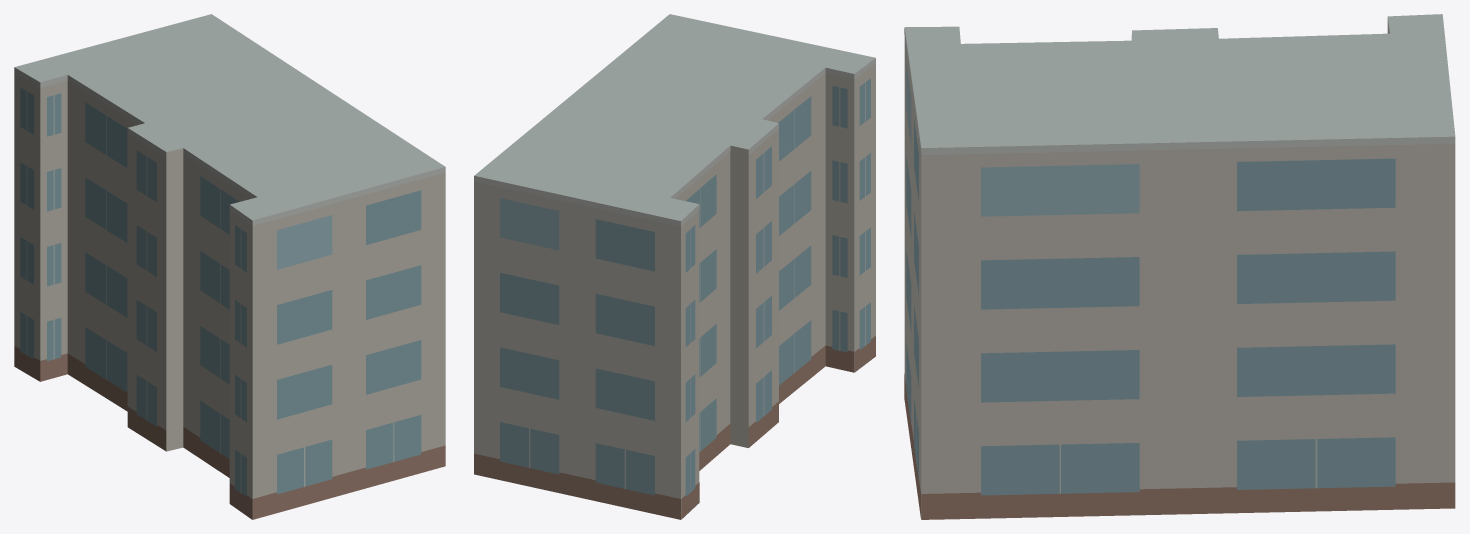
Rendered from survey-upis-32744399.glb.
3 views of the same model, side by side, from view 1: azimuth 30°, elevation 25°; view 2: azimuth 150°, elevation 25°; view 3: azimuth 270°, elevation 25° (orthographic). The views are drawn at different scales.
Parts seen in each view (by area): view 1: survey-upis-32744399.tmp; view 2: survey-upis-32744399.tmp; view 3: survey-upis-32744399.tmp.
Boxes of the visible parts, x1,y1,x2,y2 form: survey-upis-32744399.tmp: (14, 14, 445, 519); survey-upis-32744399.tmp: (474, 14, 875, 519); survey-upis-32744399.tmp: (904, 14, 1455, 519).
Bounding box in the file's own units: 10.07 × 13 × 17.47.
